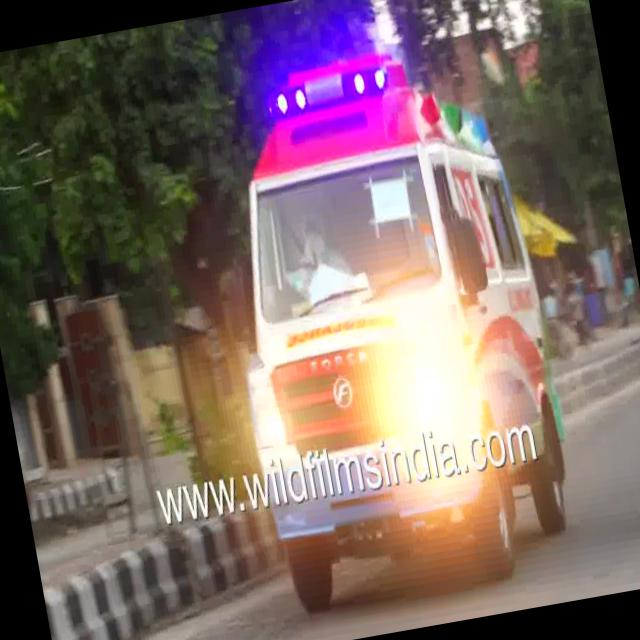ambulance: (182, 18, 584, 603)
